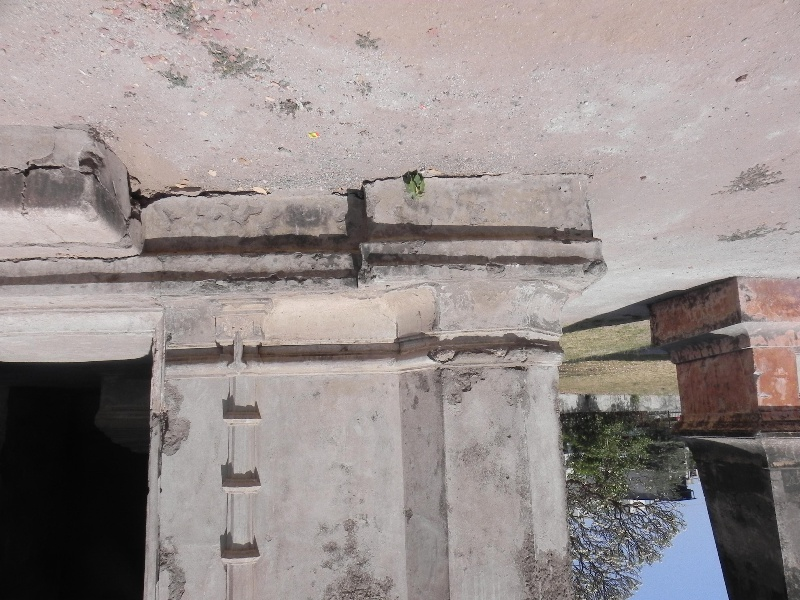Spalling: (424, 344, 535, 371)
